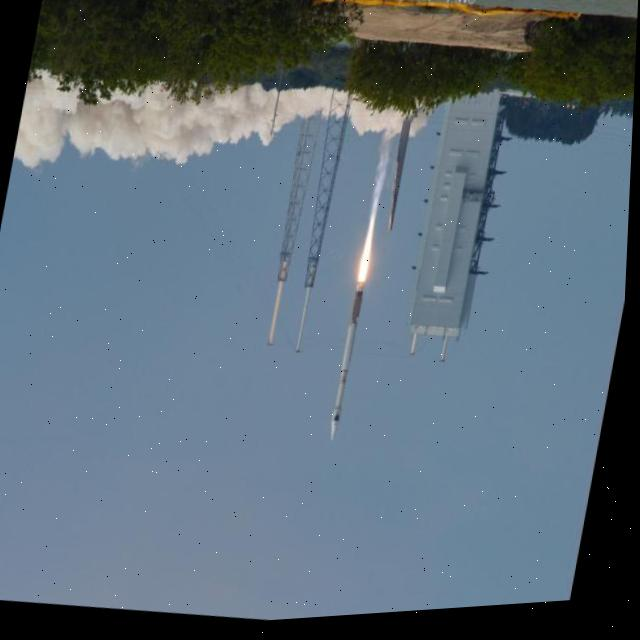missile: (323, 282, 374, 450)
